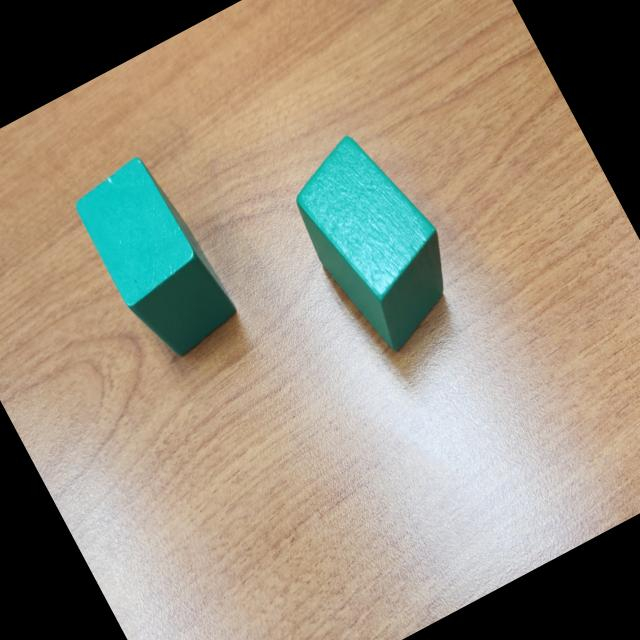green: (272, 118, 478, 366), (66, 148, 246, 370)
